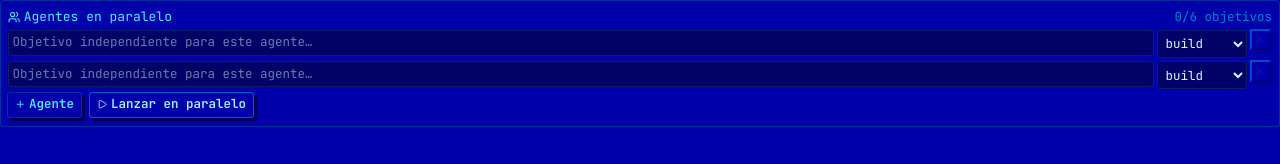
Test case: ParallelLaunch › registra la sesión padre, abre su stream y lanza los objetivos
In the text box with test id "parallel-goal-0": (581, 43) [8,30,1154,56], type "revisar el diff"
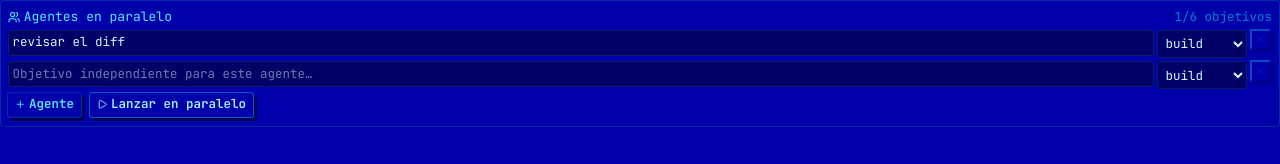
In the text box with test id "parallel-goal-1": (581, 74) [8,61,1154,87], type "buscar el bug"
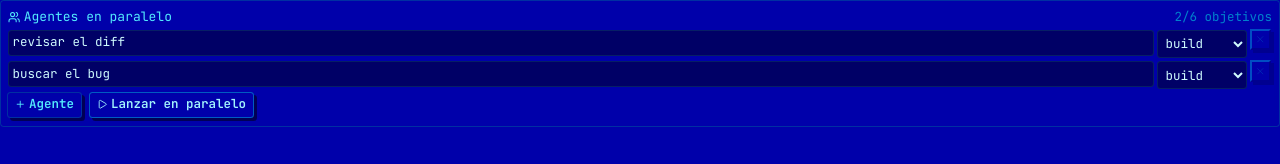
Click the button with test id "parallel-run": (172, 105) [89,92,254,118]
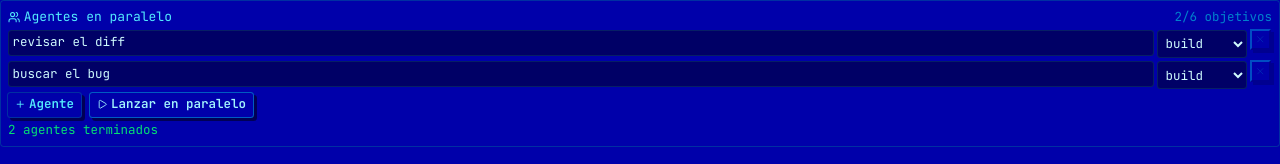
expect the text "2 agentes terminados" is shown: met, box [8,121,158,138]
